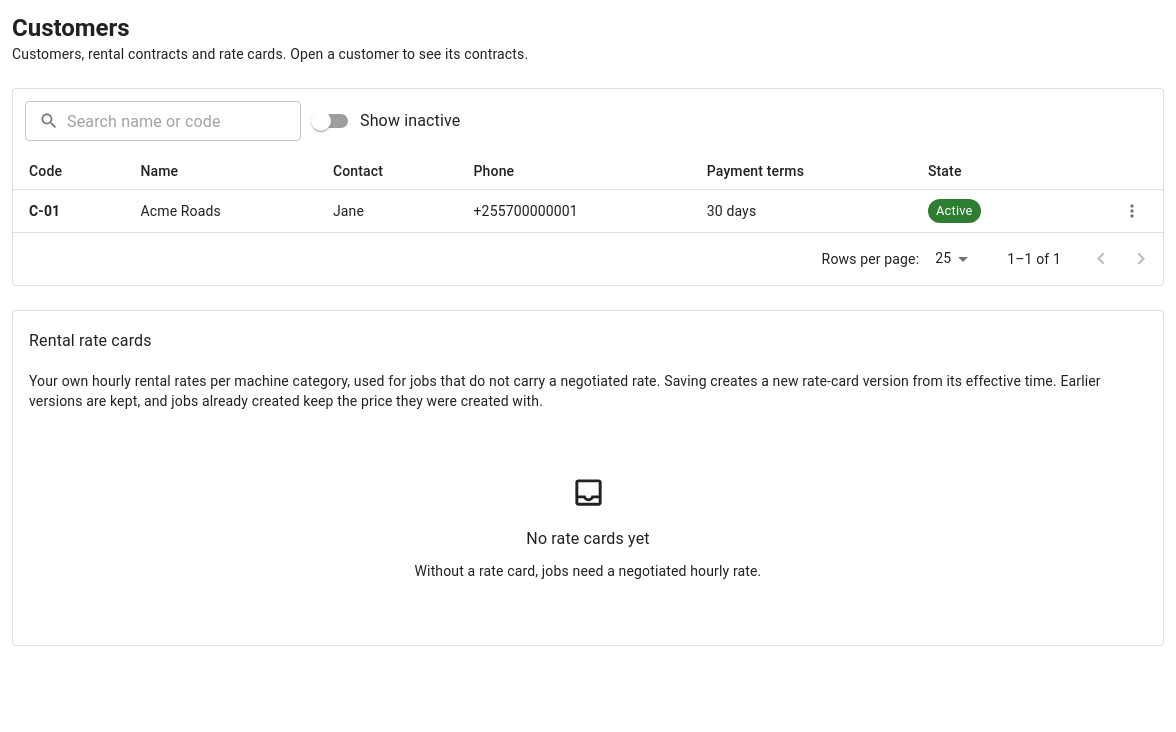
Test: customers list › offers only View details without tenant.customer.write
Click the button named "Actions for C-01 · Acme Roads" at (1132, 211), box [1117,196,1147,226]
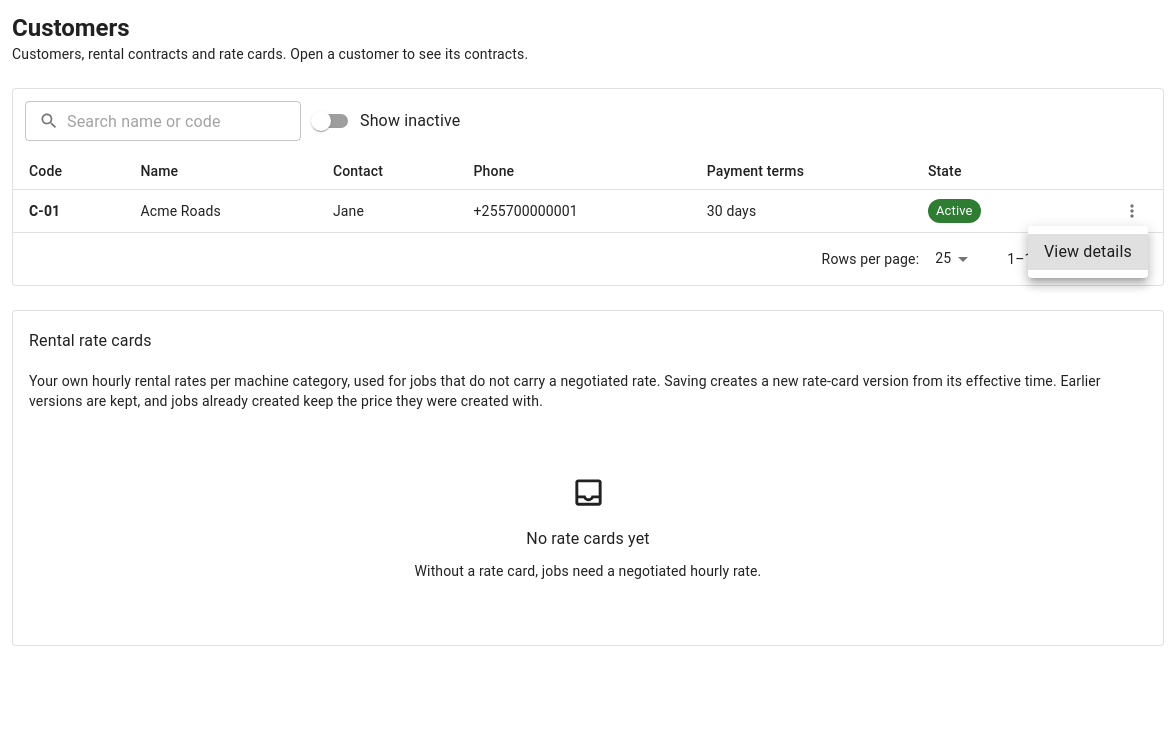
Check: the menu item "View details" is shown, box [1028,234,1148,270]
